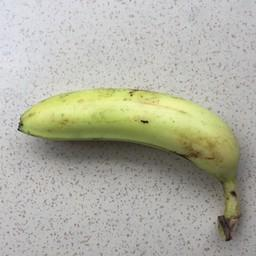Good_banana: (3, 85, 249, 184)
